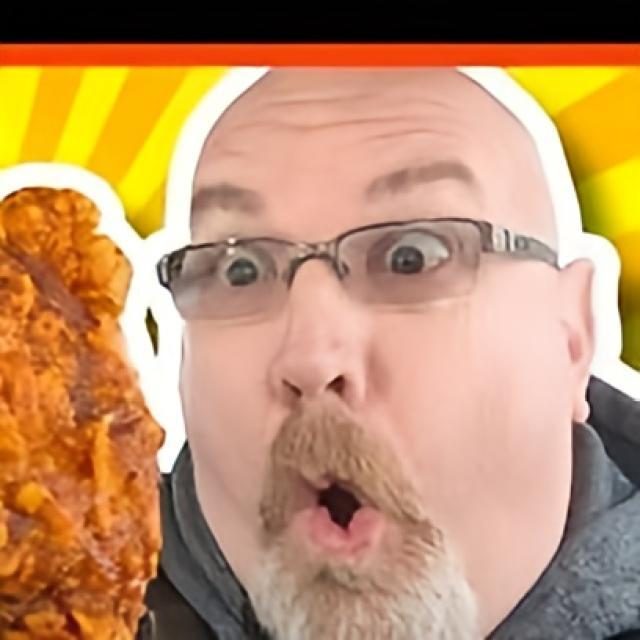surprise: (176, 67, 576, 640)
